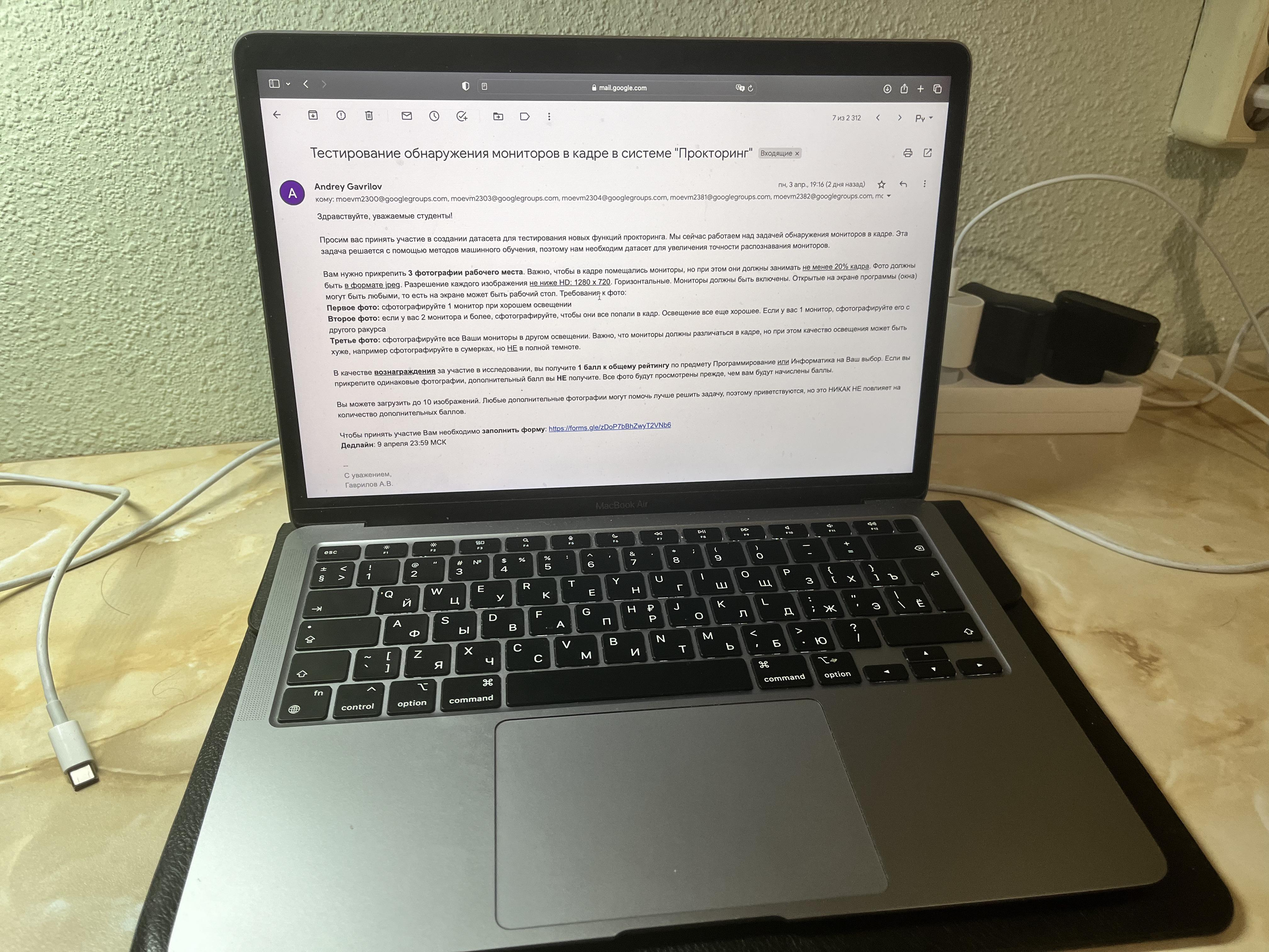monitor: (231, 25, 976, 534)
